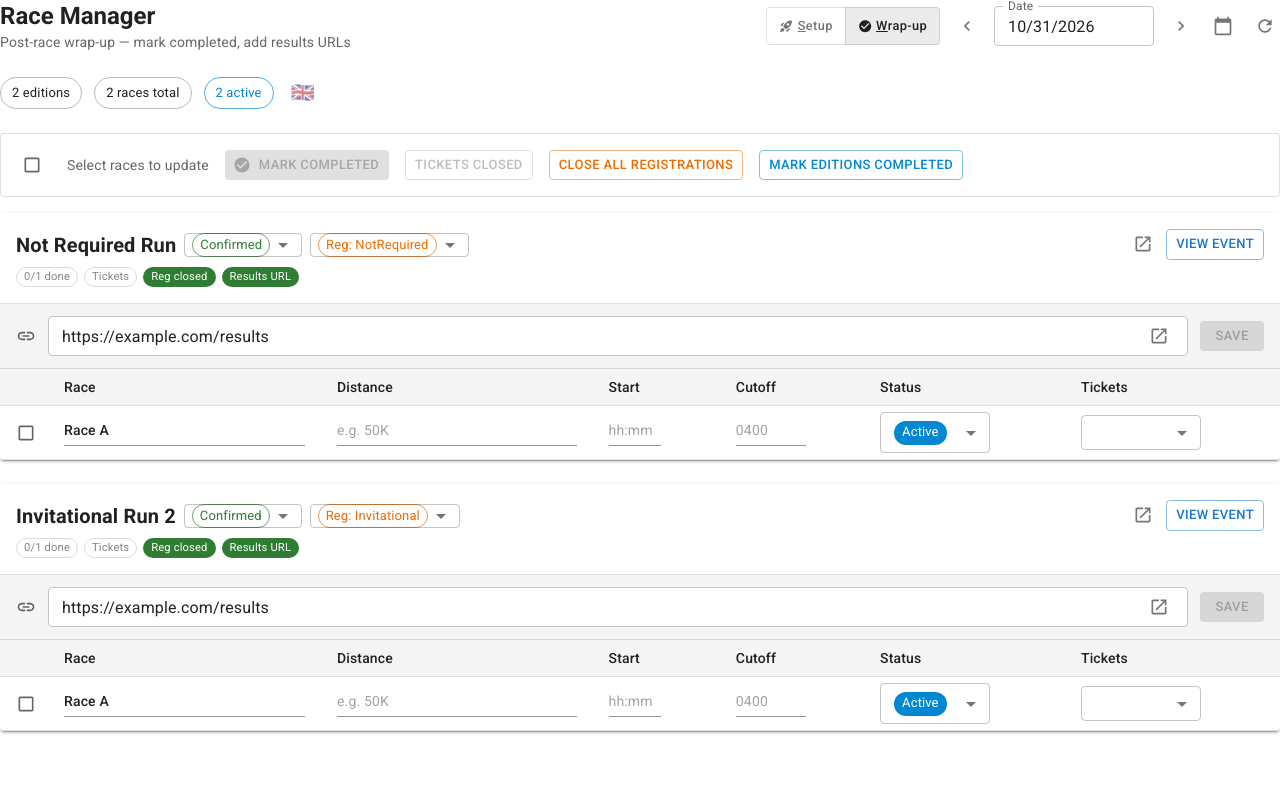
RaceDayPage page-level readiness flags exempt override editions (#1396) › shows the setup readiness banner when every edition is NotRequired/Invitational and all other conditions are met
The width and height of the screenshot is (1280, 800).
Check: the heading "Not Required Run" is shown, box [16,229,176,261]
Check: the heading "Invitational Run 2" is shown, box [16,500,176,532]
Click the button named "Setup" at (806, 26), box [766,7,846,45]
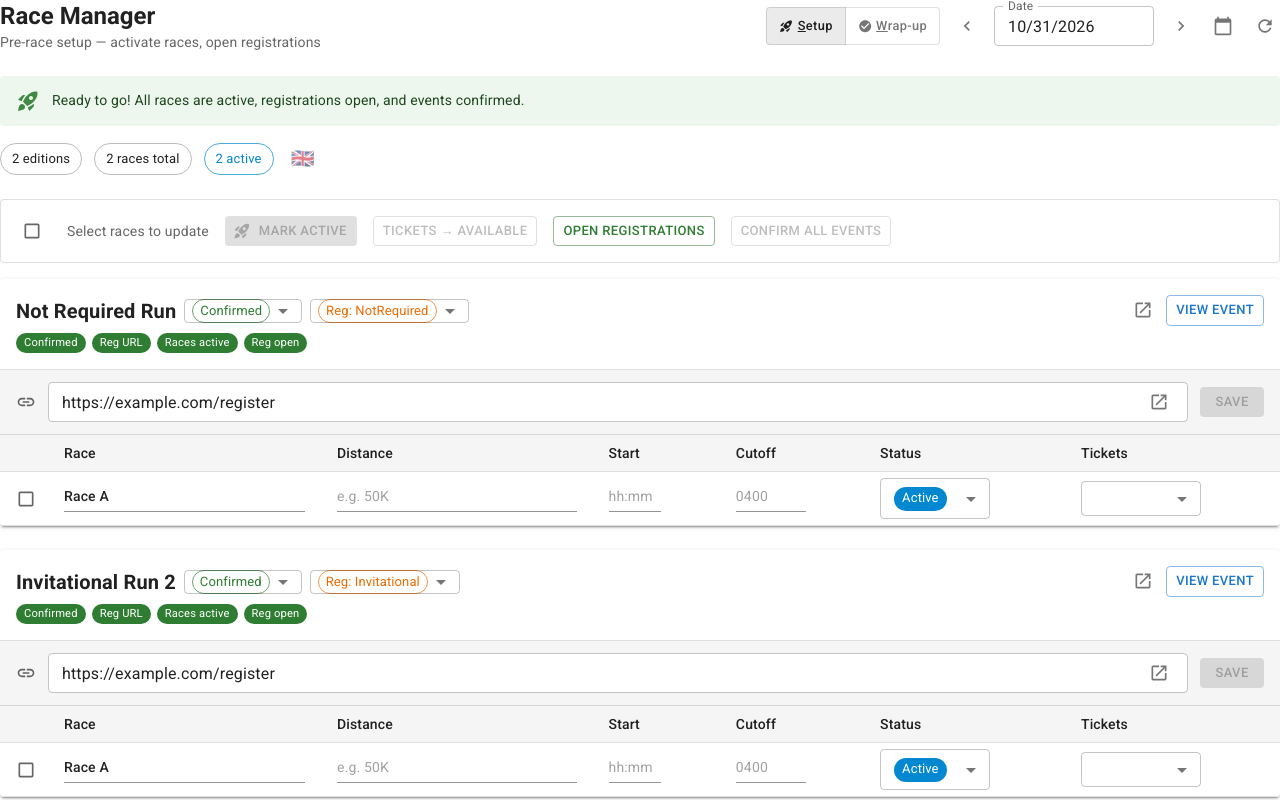
Check: the text "Ready to go!" is shown, box [52,92,525,108]
